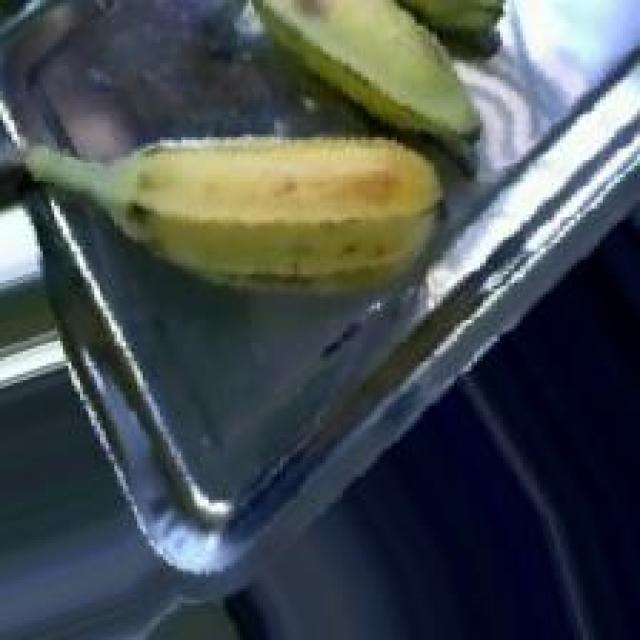banana: (20, 110, 476, 307)
